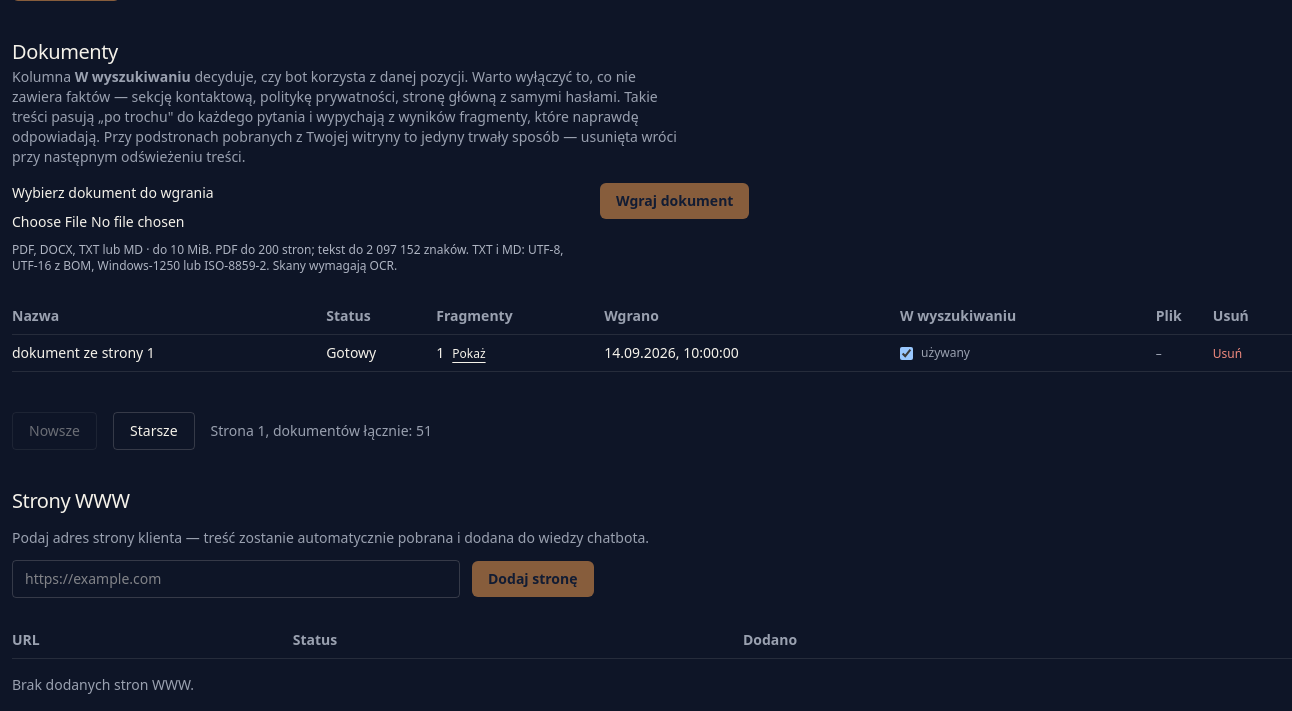
it: Baza wiedzy › dokumenty stronami
The image size is (1292, 711).
(page scrolled)
Expected: the text "dokument ze strony 1" is shown, [12,335,326,372]
Expected: the text "Strona 1, dokumentów łącznie: 51" is shown, [211,421,432,441]
Step 1. Click the button "Starsze" → (154, 431), box [113,412,195,450]
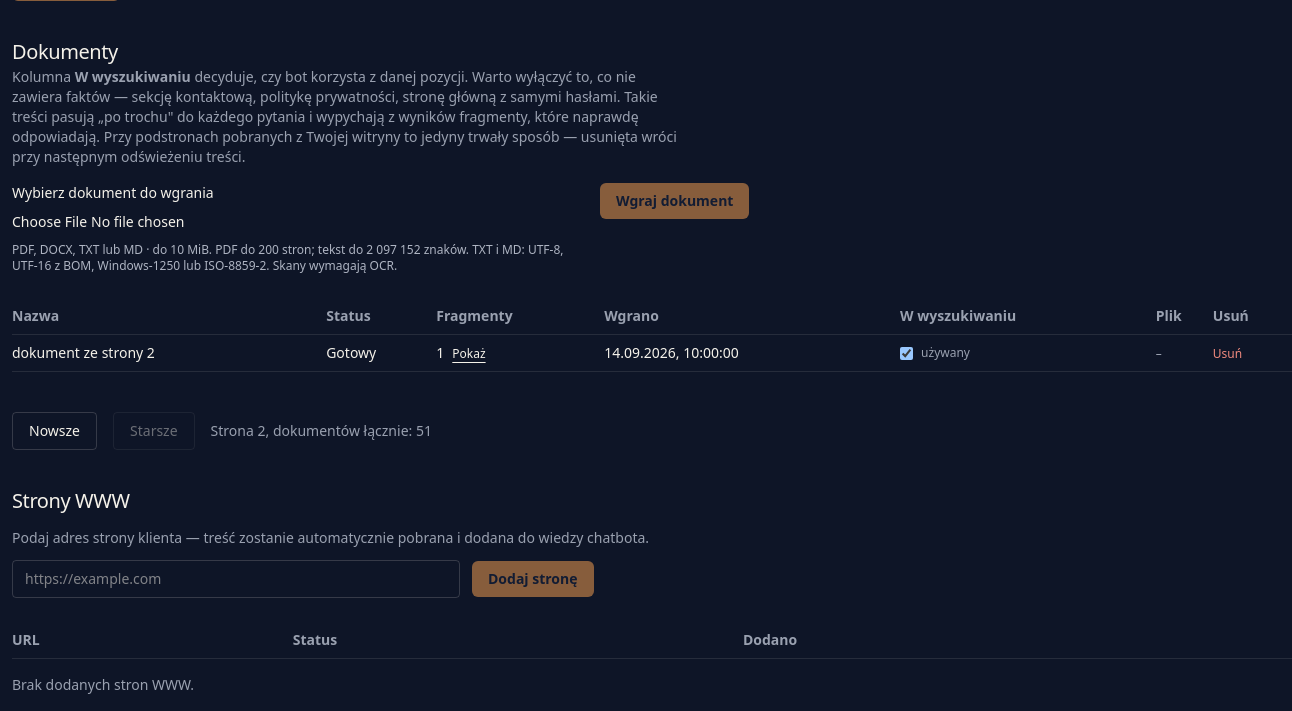
Expected: the text "dokument ze strony 2" is shown, [12,335,326,372]
